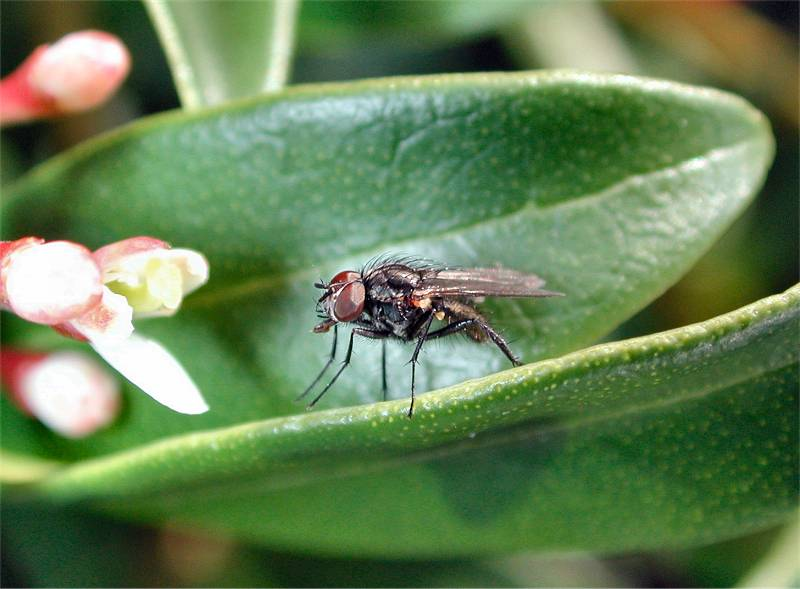green bottles flies: (294, 238, 571, 434)
